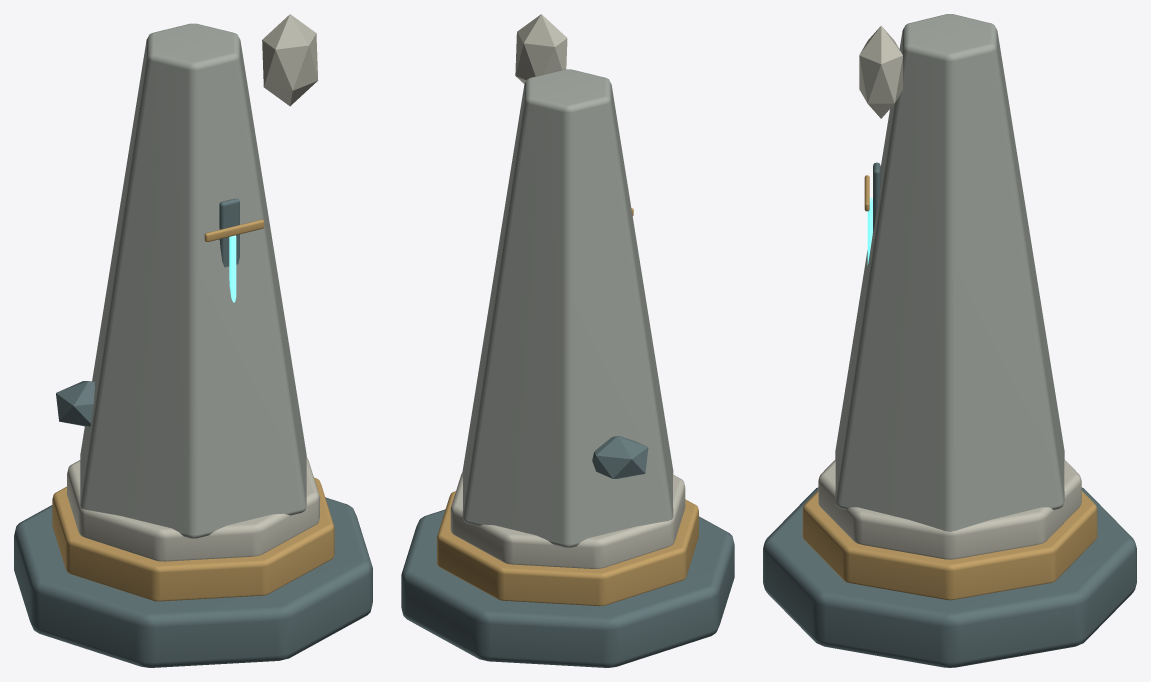
File: SM_Waystone_Checkpoint_01.fbx
3 views of the same model, side by side, from view 1: azimuth 30°, elevation 25°; view 2: azimuth 150°, elevation 25°; view 3: azimuth 270°, elevation 25° (orthographic). The views are drawn at different scales.
Visible parts, largest first — view 1: SM_Waystone_Checkpoint_01; view 2: SM_Waystone_Checkpoint_01; view 3: SM_Waystone_Checkpoint_01.
Boxes of the visible parts, x1,y1,x2,y2 form: SM_Waystone_Checkpoint_01: (14,14,372,667); SM_Waystone_Checkpoint_01: (401,14,734,667); SM_Waystone_Checkpoint_01: (763,14,1136,667).
Bounding box in the file's own units: 1.74 × 3.07 × 1.74.
